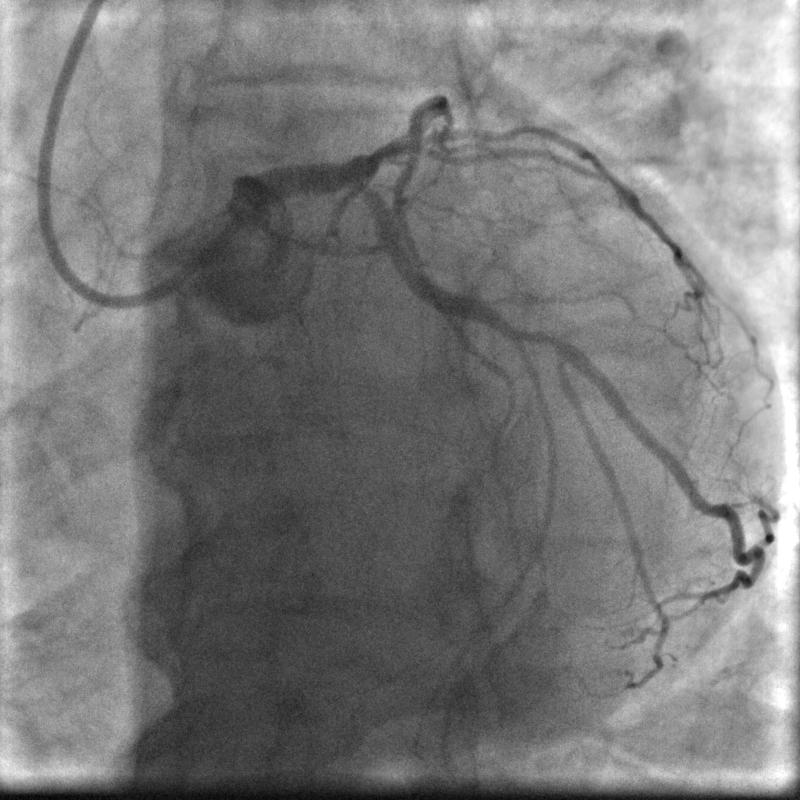Stenosis: (509, 323, 563, 353)
